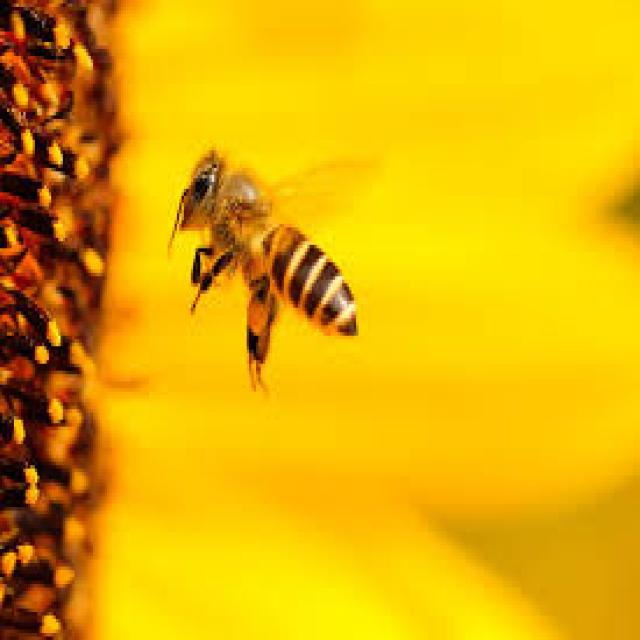Bees: (170, 147, 383, 398)
